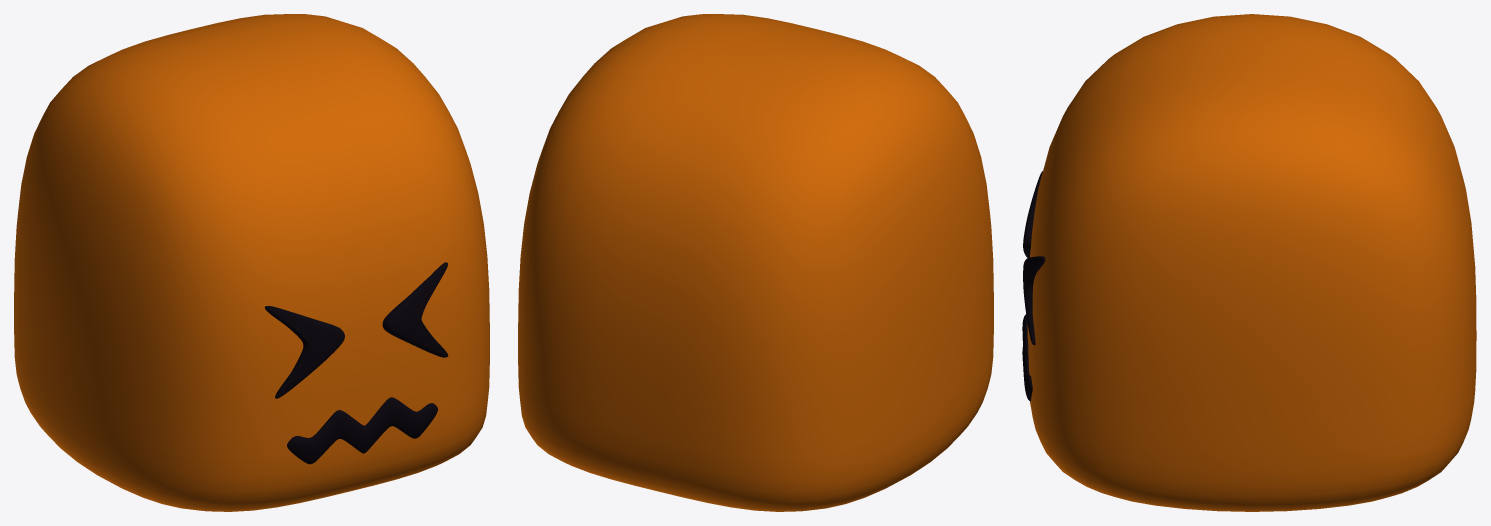
File: Emoji 093 confounded face.fbx
3 renders of one model, left to right at view 1: azimuth 30°, elevation 25°; view 2: azimuth 150°, elevation 25°; view 3: azimuth 270°, elevation 25°, orthographic.
Visible parts, largest first — view 1: Emoji 093 confounded face, Eyes.044, Plane.007; view 2: Emoji 093 confounded face; view 3: Emoji 093 confounded face, Eyes.044, Plane.007.
Part boxes in pixels (box(x1,y1,x2,y2)): Emoji 093 confounded face: box(14, 14, 489, 511); Eyes.044: box(264, 262, 448, 398); Plane.007: box(287, 397, 437, 464); Emoji 093 confounded face: box(518, 14, 993, 511); Emoji 093 confounded face: box(1027, 14, 1476, 511); Eyes.044: box(1023, 171, 1045, 345); Plane.007: box(1022, 314, 1032, 401).
Bounding box in the file's own units: 95.83 × 101 × 95.83.
